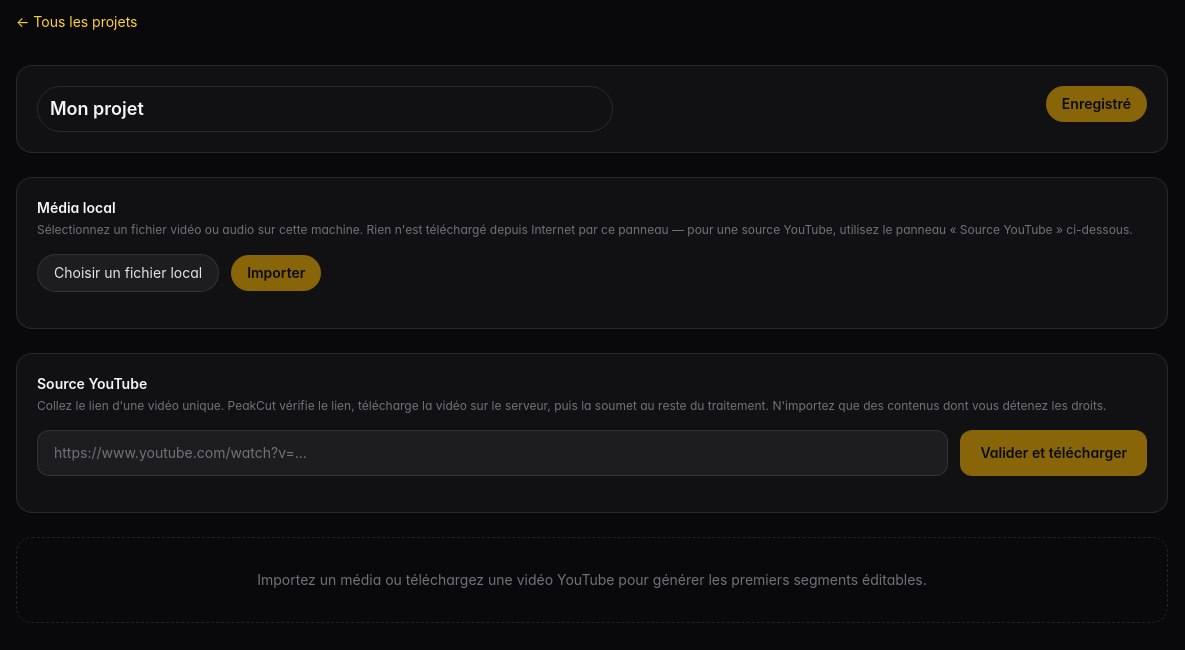
Test case: ProjectDetailPage › keeps local edits when the save request fails
Replace the text in the field showing "Mon projet" with "Titre local non sauvegardé" at point(325, 109), box [37,86,613,132]
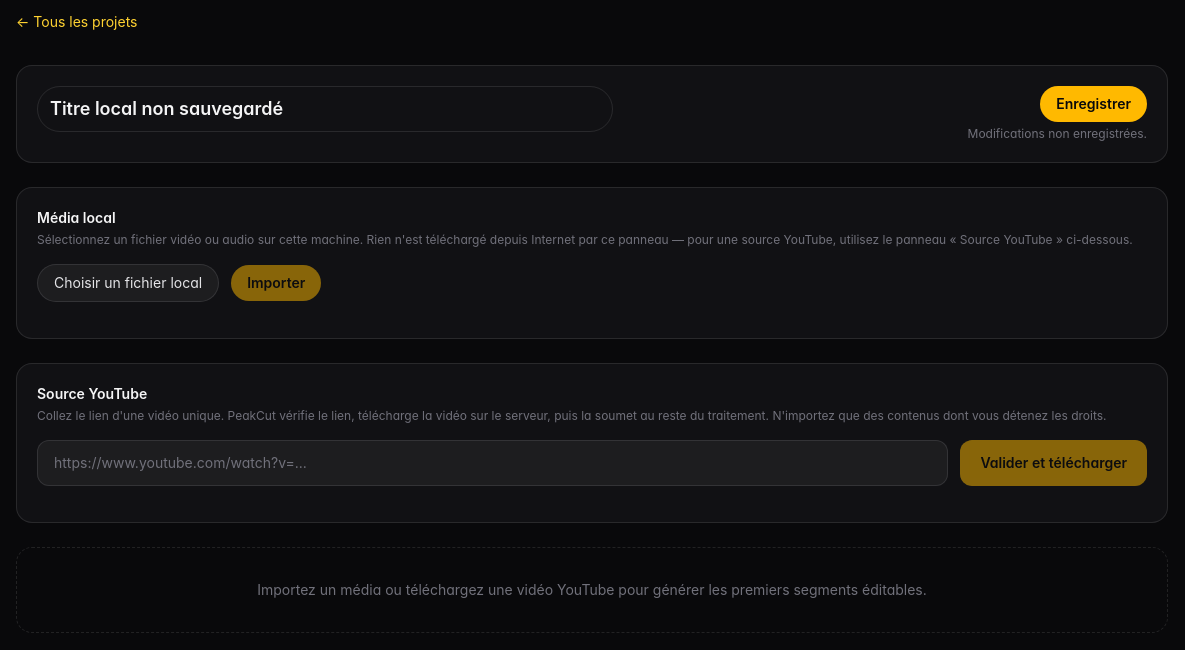
Click the button "Enregistrer" at point(1094, 104), box [1040,86,1147,122]
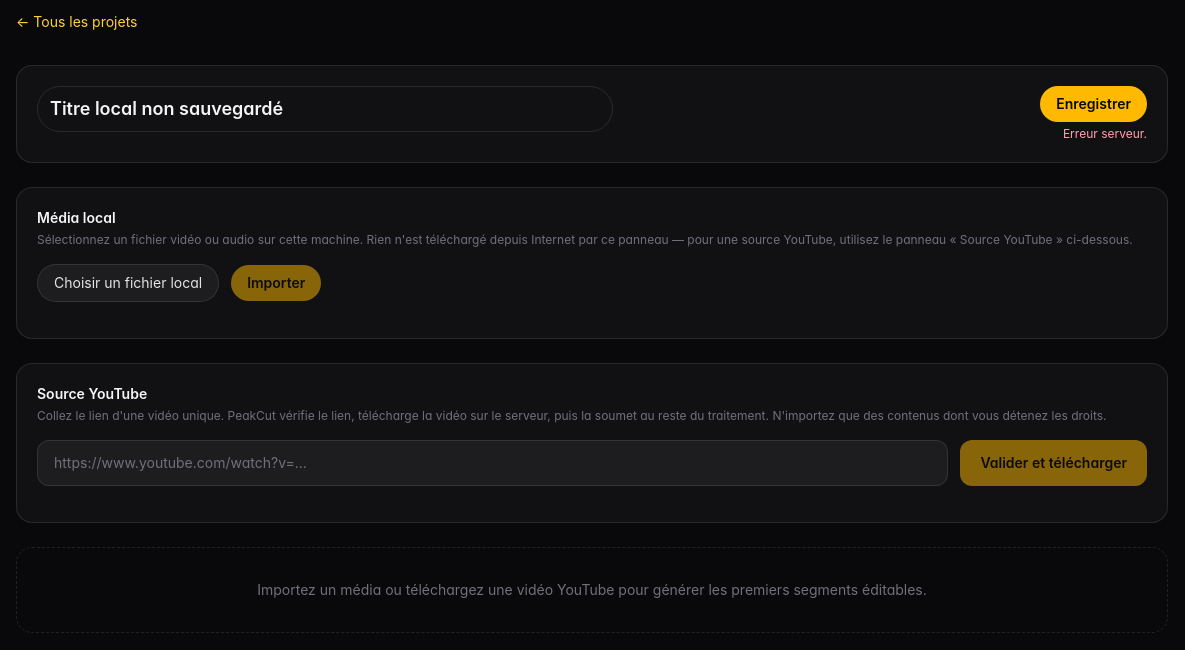
Expected: the text "Erreur serveur." is shown, [1063,126,1147,142]
